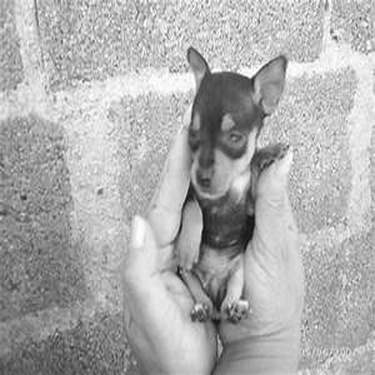dog: (137, 31, 303, 338)
